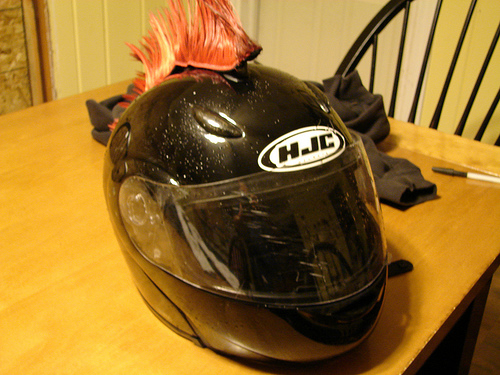helmet: (104, 85, 404, 339)
